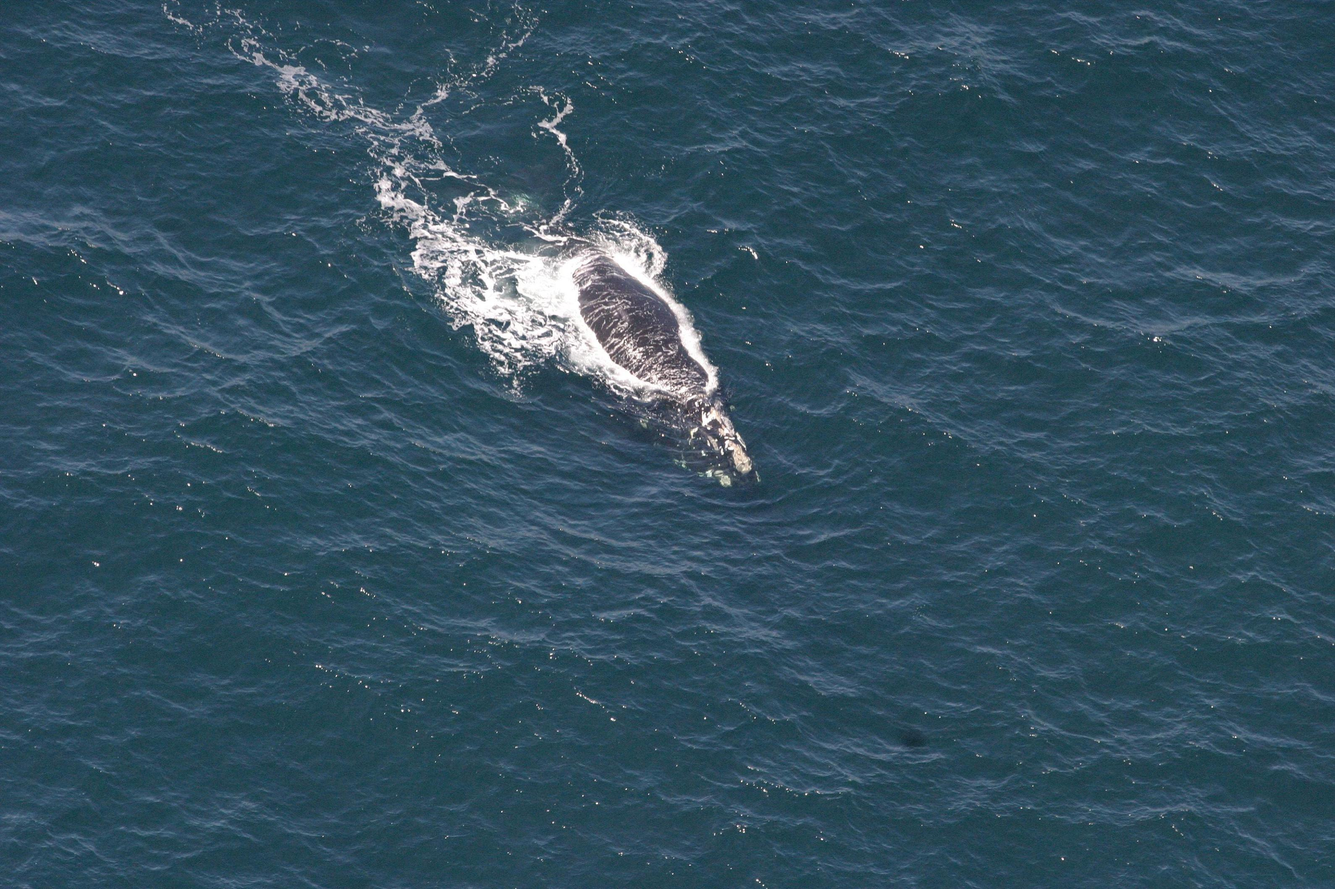whale: (421, 146, 765, 494)
